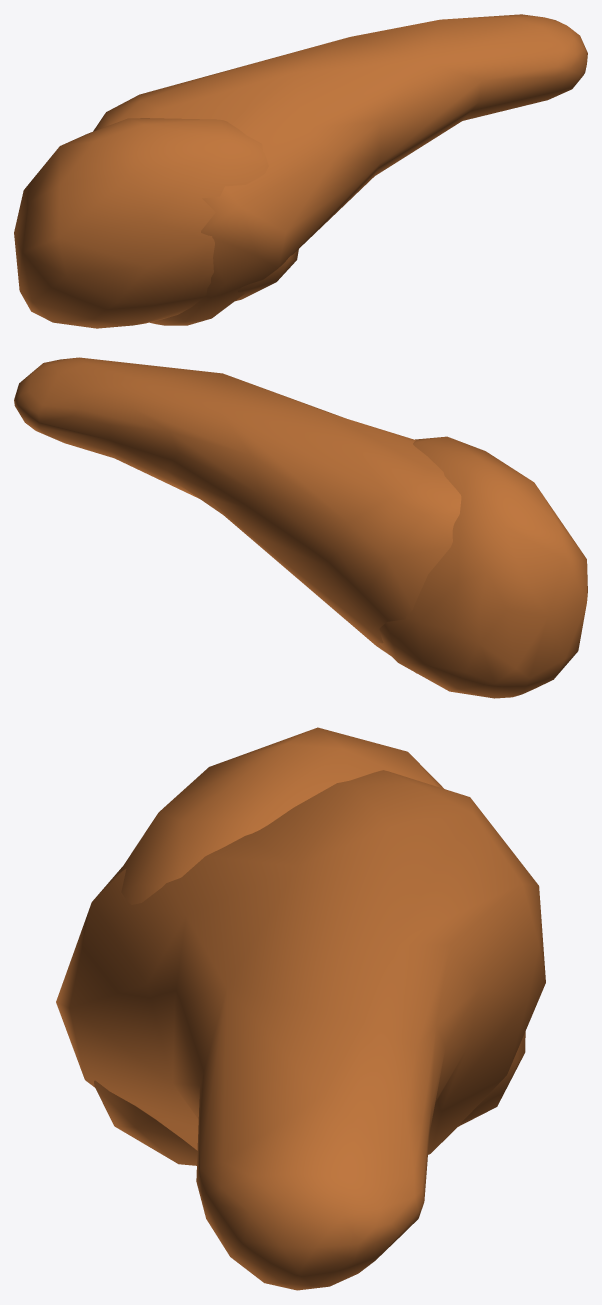
Rendered from Superior_colliculus_left.glb.
3 renders of one model, top to bottom at view 1: azimuth 30°, elevation 25°; view 2: azimuth 150°, elevation 25°; view 3: azimuth 270°, elevation 25°, orthographic. The views are drawn at different scales.
Parts seen in each view (by area): view 1: Superior_colliculus.l_grp1.035; view 2: Superior_colliculus.l_grp1.035; view 3: Superior_colliculus.l_grp1.035.
Boxes of the visible parts, <box> form: Superior_colliculus.l_grp1.035: <box>14,14,587,328</box>; Superior_colliculus.l_grp1.035: <box>14,357,587,698</box>; Superior_colliculus.l_grp1.035: <box>56,727,545,1290</box>.
Size of the model in its own units: 0.017 by 0.00639 by 0.00647.
